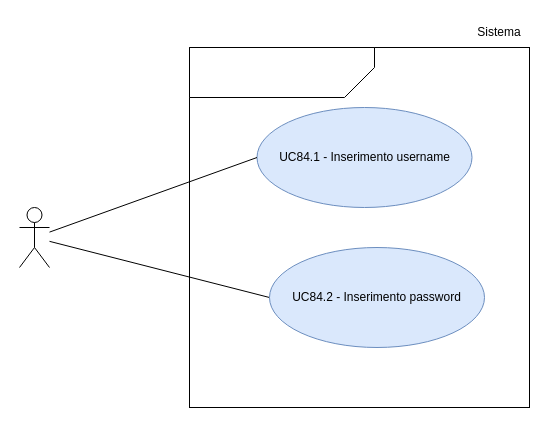
The diagram is 547 pixels wide and 425 high, and some of its shapes have lost their labels. The shapes that lost their labels are listed below. From the top down, each one's centre as x and y in pixels, then its label:
point 281,72: UC84 - Autenticazione
point 34,237: Utente
